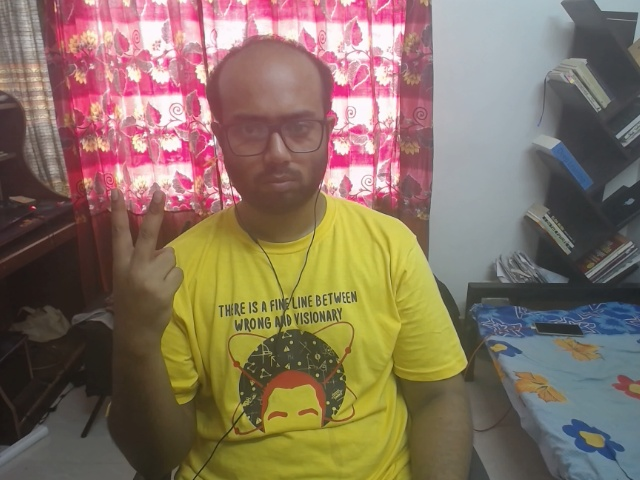two: (91, 175, 227, 349)
